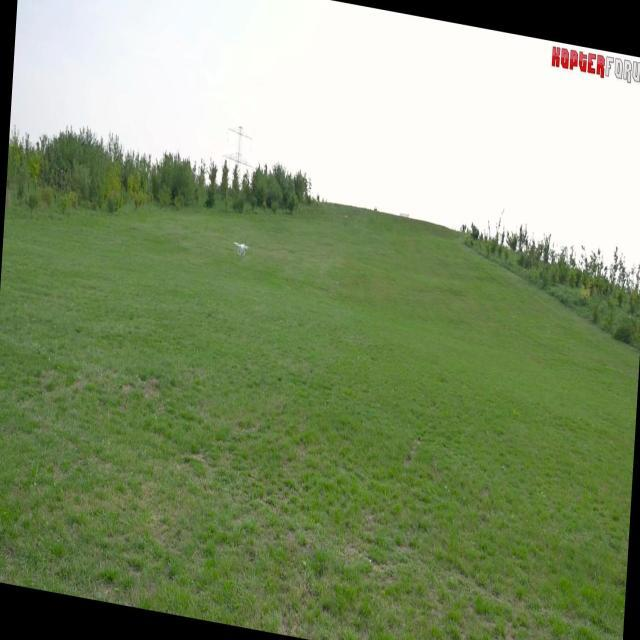drone: (233, 238, 250, 260)
